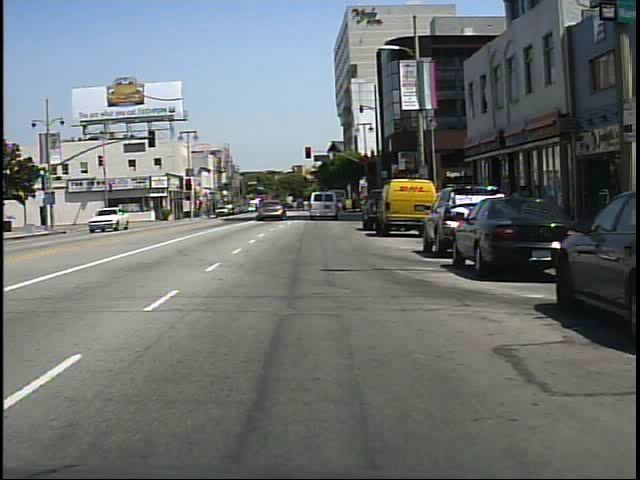person: (253, 193, 270, 222), (96, 202, 112, 230)
